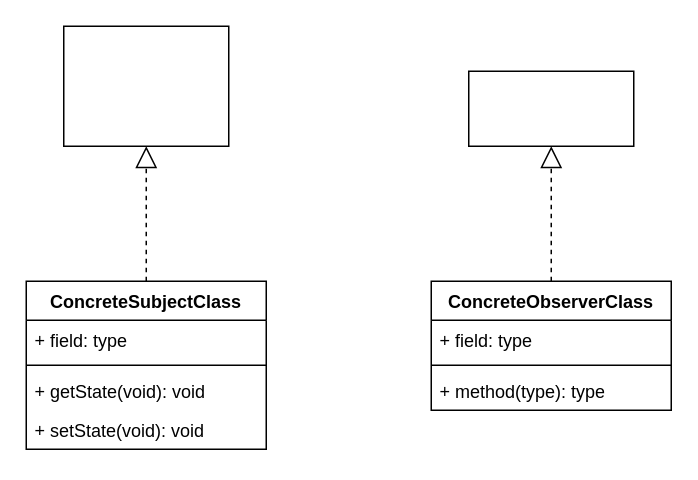
Image size: 698x480. Some labels were removed from this diagram. Each missing label, with the centre of its shape:
"«Observer» Update()" goes at point 550,108.
"«Subject» registerObserver() removeObserver() notifyObserver()" goes at point 145,85.
